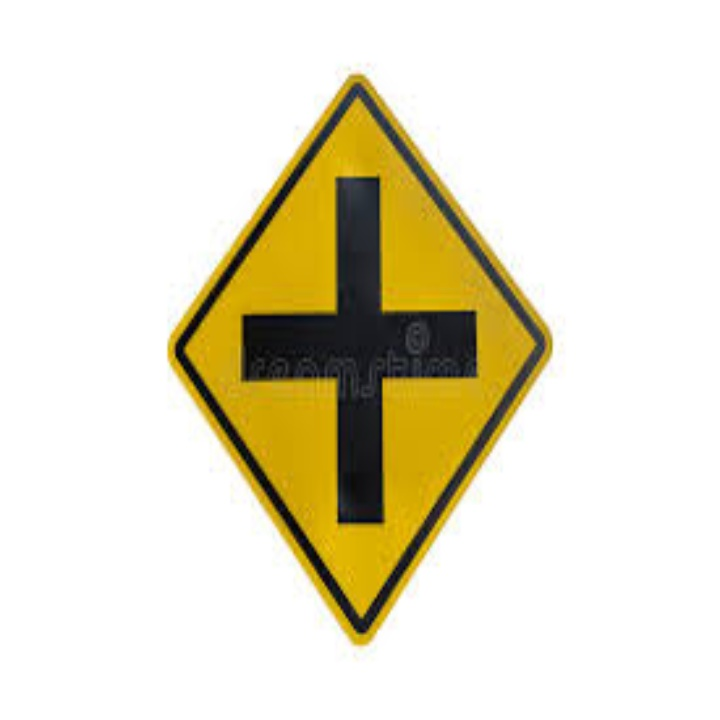inter: (233, 170, 492, 533)
